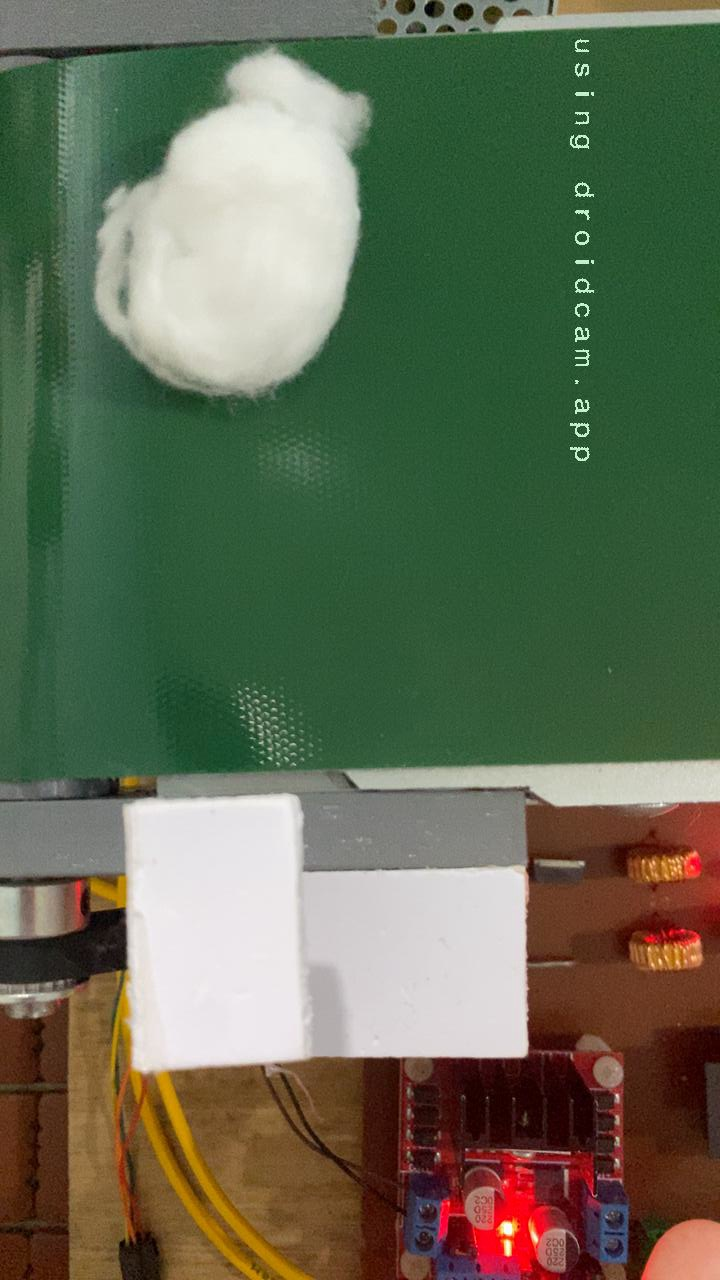cotton: (0, 32, 416, 403)
